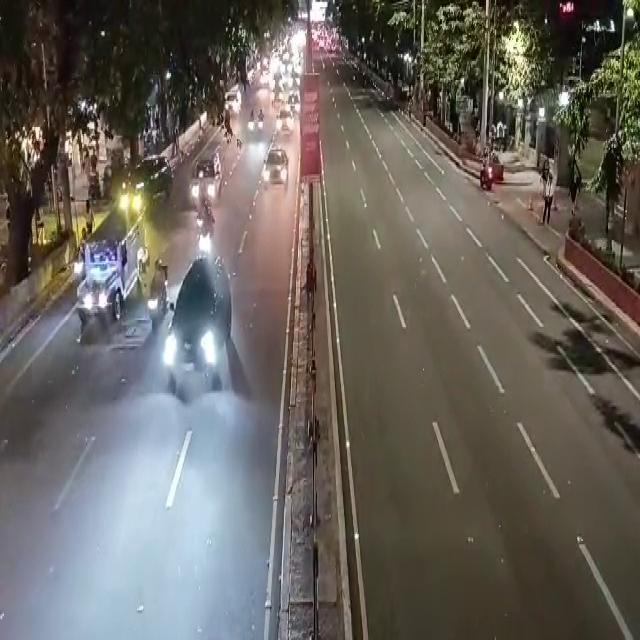car: (166, 260, 226, 400), (124, 151, 174, 205), (189, 154, 222, 200), (261, 148, 288, 192)
jeepney: (80, 204, 148, 323)
motorcycle: (152, 256, 170, 340), (192, 201, 216, 259), (476, 136, 496, 193), (248, 106, 256, 139), (257, 109, 263, 136)
